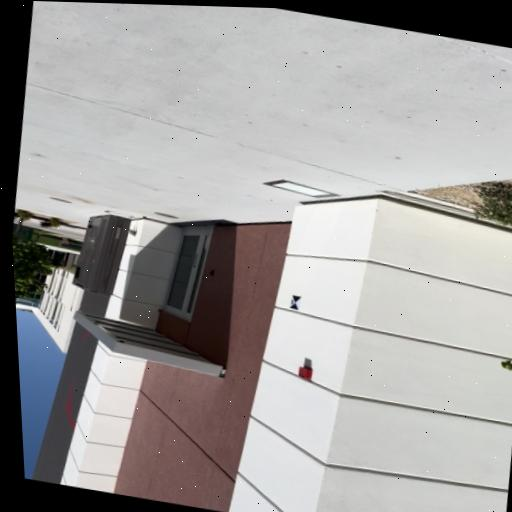target6: (288, 294, 302, 311)
